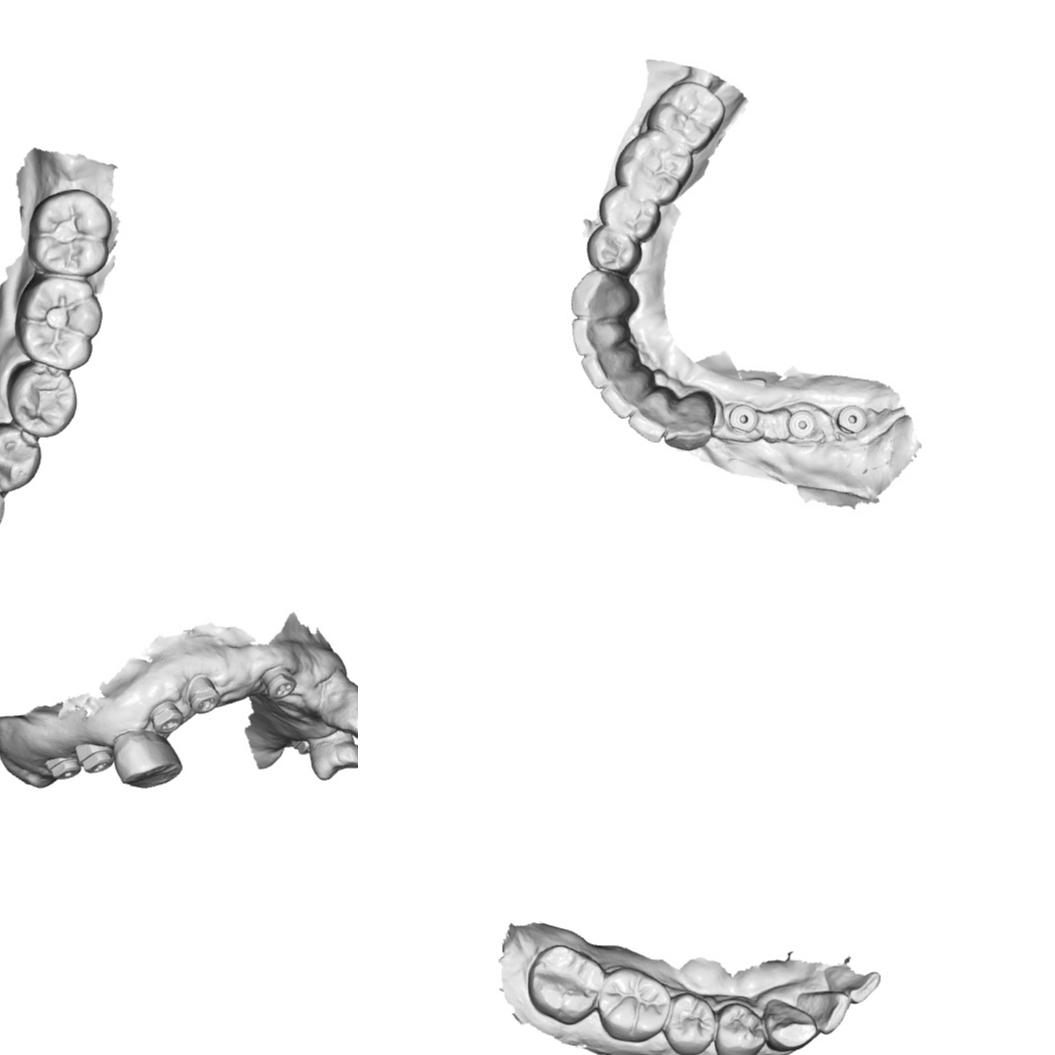canine: (569, 269, 637, 320), (662, 391, 716, 452), (761, 996, 818, 1052), (319, 666, 358, 743)
implant: (186, 674, 222, 716), (42, 752, 82, 781), (834, 403, 868, 436), (785, 407, 818, 441), (727, 403, 760, 434), (294, 739, 310, 756)
implant_minus: (76, 740, 114, 775), (148, 700, 182, 734)
implant_plus: (259, 664, 298, 700)
incisor: (626, 385, 672, 443), (598, 370, 652, 419), (796, 988, 852, 1035), (823, 960, 882, 1004), (580, 346, 636, 390), (571, 316, 631, 357)
molar: (20, 274, 99, 370), (29, 186, 108, 277), (526, 943, 605, 1025), (616, 127, 694, 204), (644, 81, 728, 151), (596, 966, 670, 1044)
premolar: (6, 361, 77, 437), (112, 728, 184, 791), (599, 182, 659, 241), (0, 420, 45, 497), (662, 991, 716, 1055), (713, 1001, 768, 1055), (586, 224, 642, 274), (309, 727, 358, 781)
